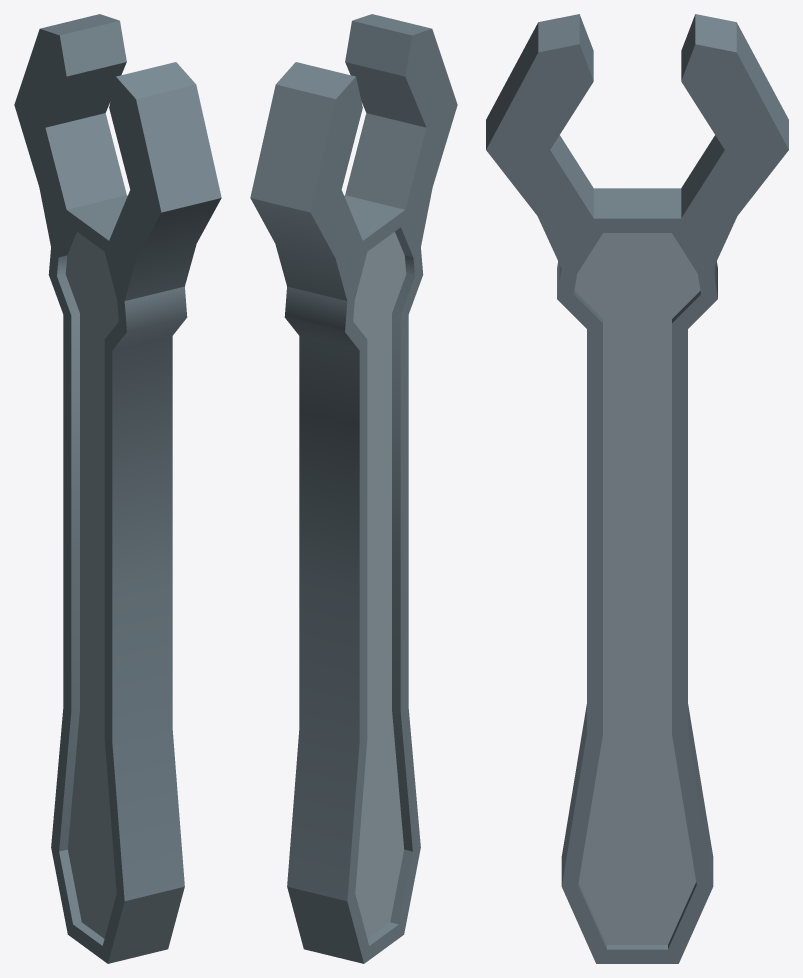
The model's file is Wrench.fbx.
3 renders of one model, left to right at view 1: azimuth 30°, elevation 25°; view 2: azimuth 150°, elevation 25°; view 3: azimuth 270°, elevation 25°, orthographic. The views are drawn at different scales.
Parts seen in each view (by area): view 1: Wrench; view 2: Wrench; view 3: Wrench.
Boxes of the visible parts, <box> form: Wrench: <box>14,14,221,963</box>; Wrench: <box>250,14,457,963</box>; Wrench: <box>486,14,788,963</box>.
Bounding box in the file's own units: 11.54 × 163 × 48.81.
